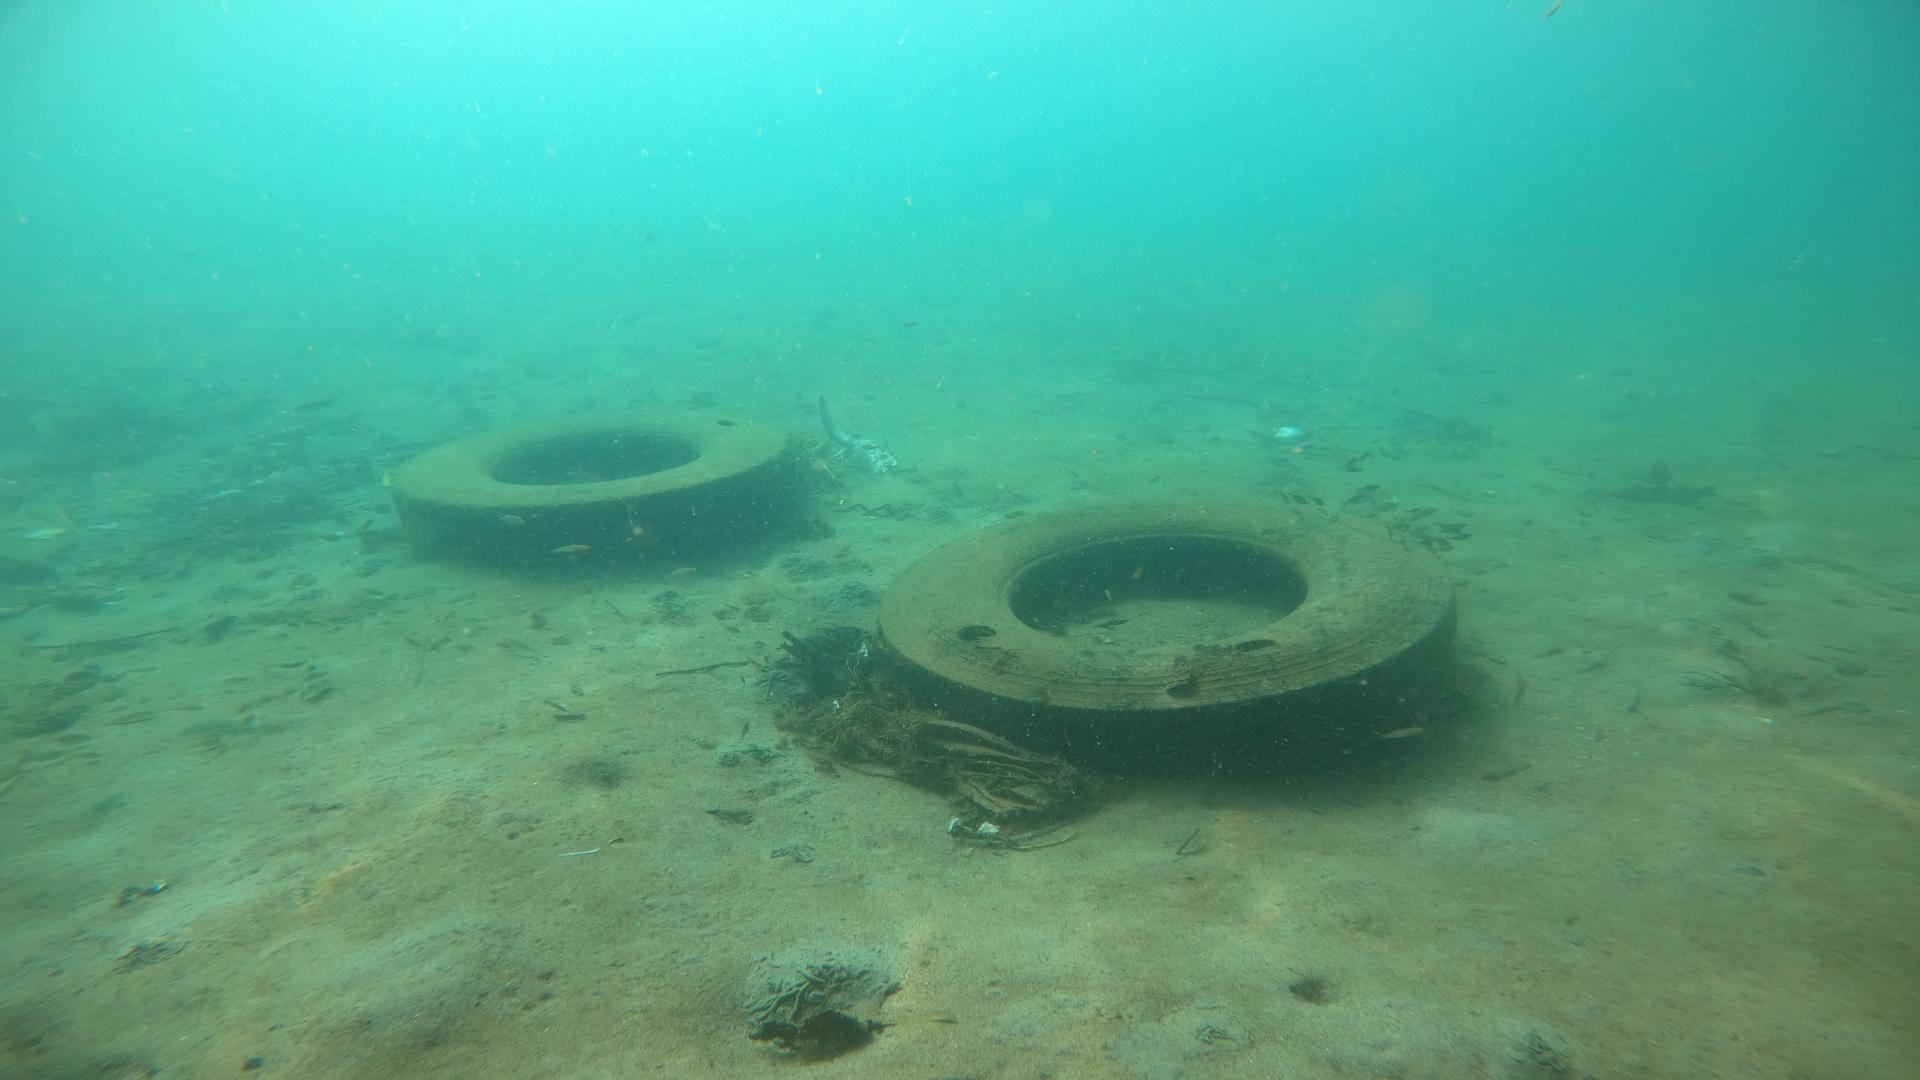tire: (874, 498, 1455, 769), (382, 406, 793, 574)
